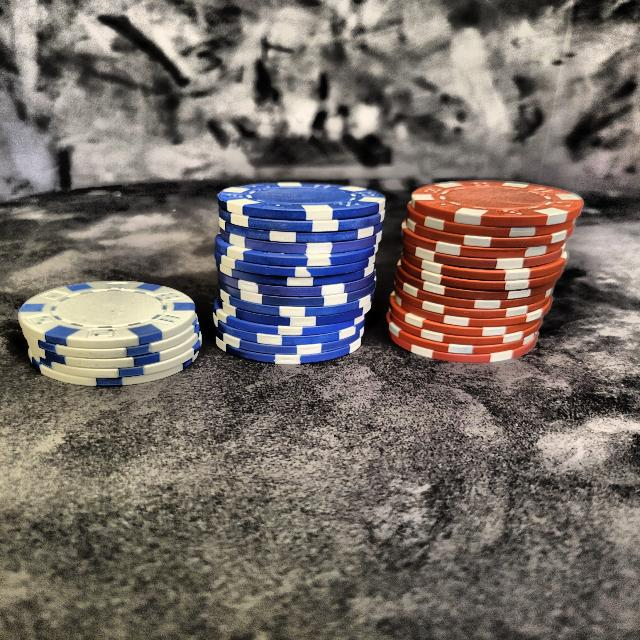Chip: (387, 159, 587, 375), (212, 164, 383, 380), (25, 259, 205, 397)
